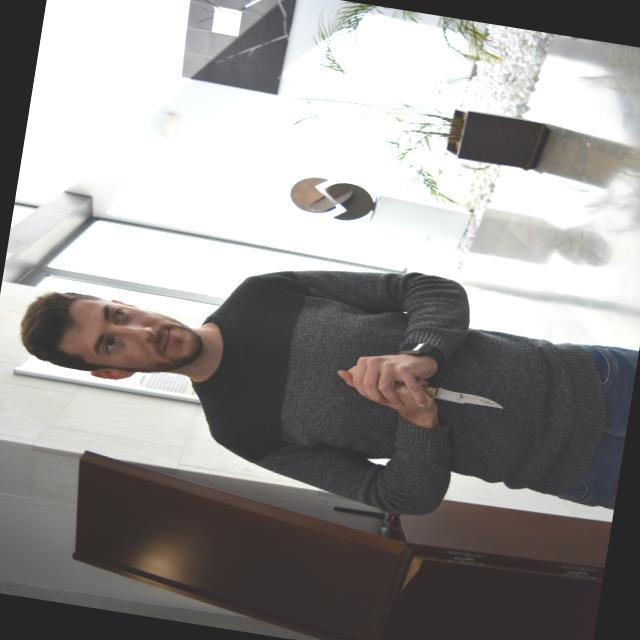knife: (413, 379, 511, 414)
